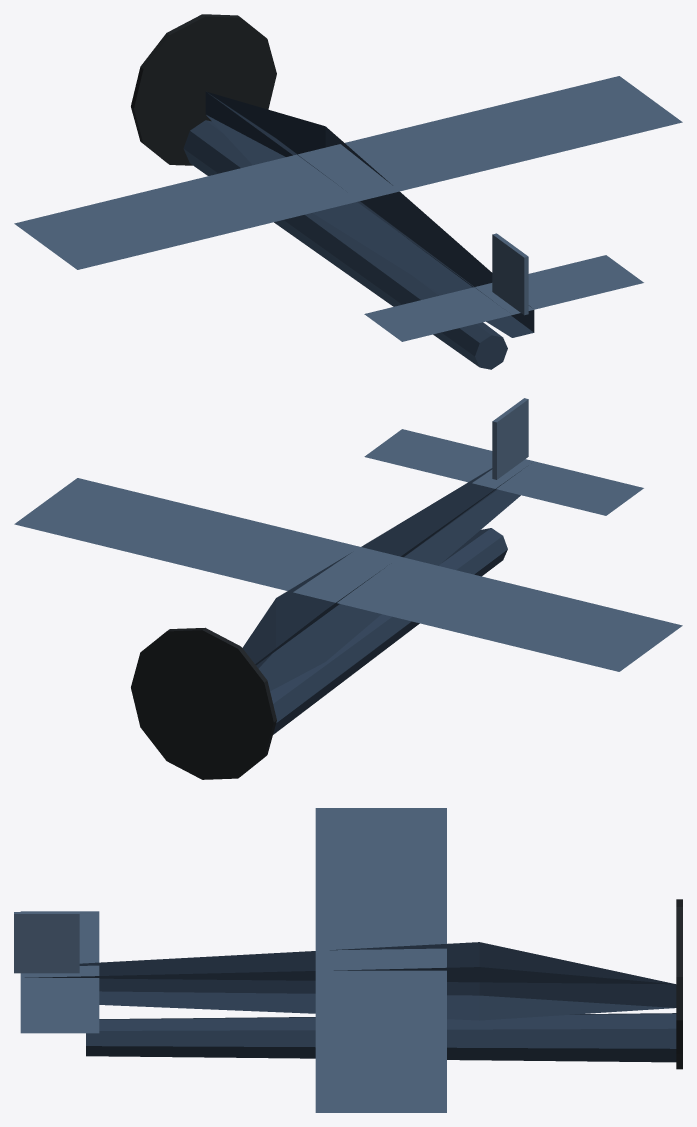
Rendered from plane_us_float.glb.
3 renders of one model, top to bottom at view 1: azimuth 30°, elevation 25°; view 2: azimuth 150°, elevation 25°; view 3: azimuth 270°, elevation 25°, orthographic. The views are drawn at different scales.
Visible parts, largest first — view 1: Hull; view 2: Hull; view 3: Hull.
Boxes of the visible parts, x1,y1,x2,y2 form: Hull: [14, 14, 682, 369]; Hull: [14, 398, 682, 779]; Hull: [14, 808, 682, 1112].
Bounding box in the file's own units: 11 × 2.6 × 10.2.
